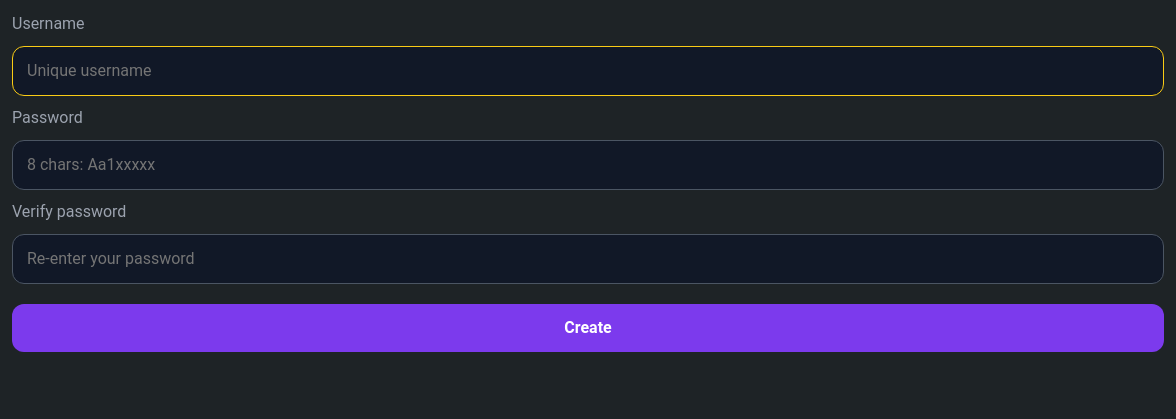
Test case: CreateProfileForm › surfaces store errors and clears them after a successful retry
Type "AcePilot" into the field labelled "Username" at (588, 71), box [12,46,1164,96]
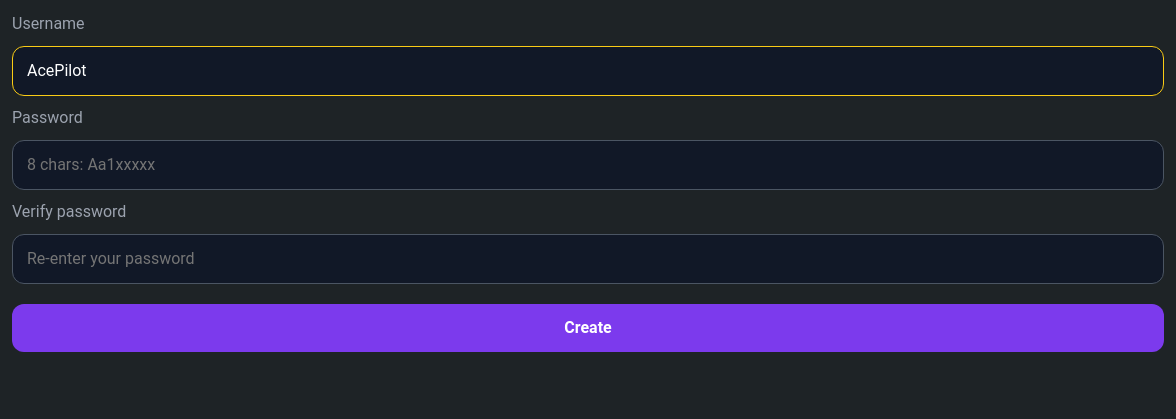
Type "Abc12345" into the password field labelled "Password" at (588, 165), box [12,140,1164,190]
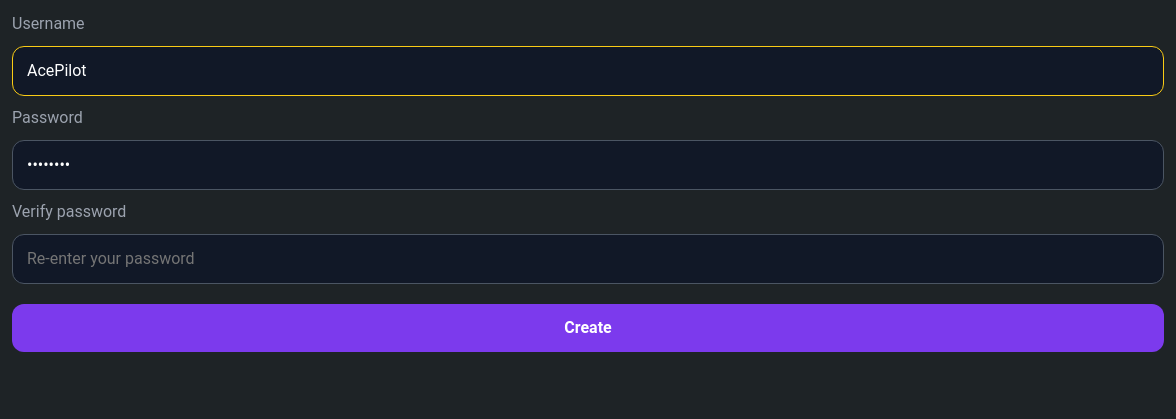
Type "Abc12345" into the password field labelled "Verify password" at (588, 259), box [12,234,1164,284]
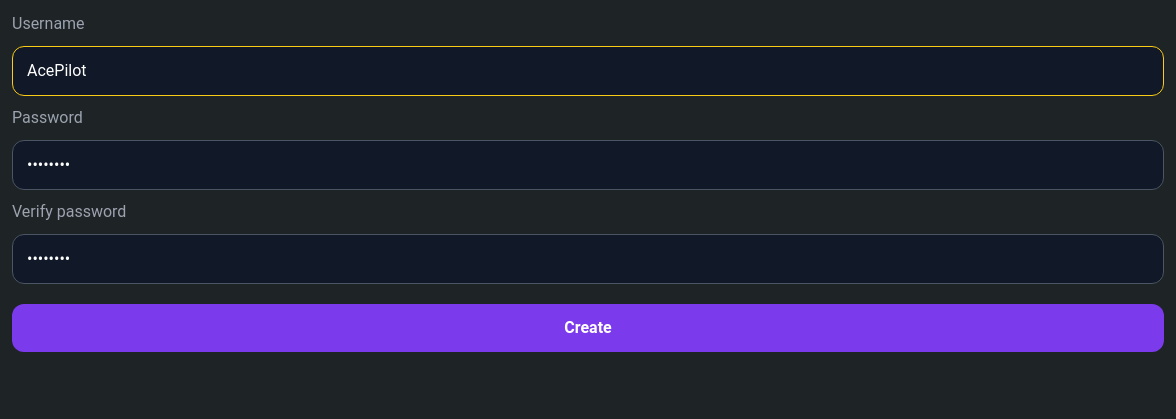
Click the button "Create" at (588, 328), box [12,304,1164,352]
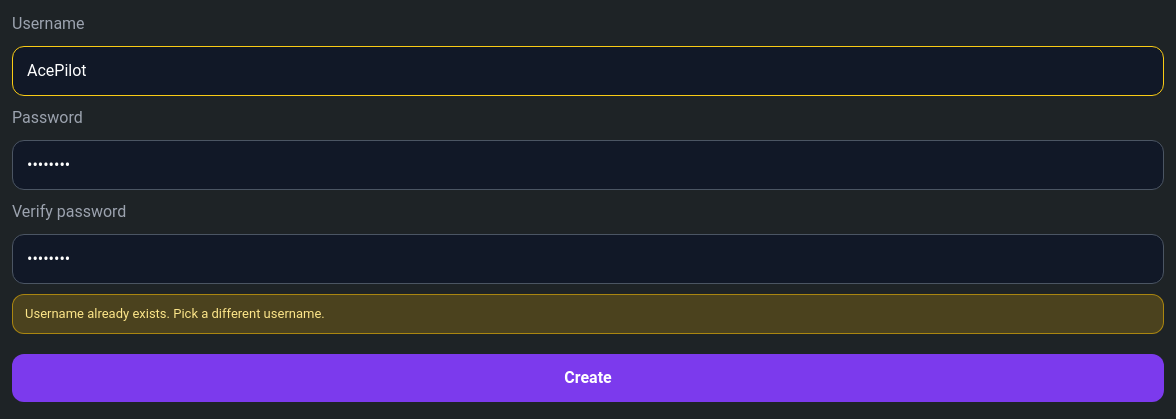
Check: the message shows "Username already exists", box [25,306,325,321]
Click the button "Create" at (588, 378), box [12,354,1164,402]
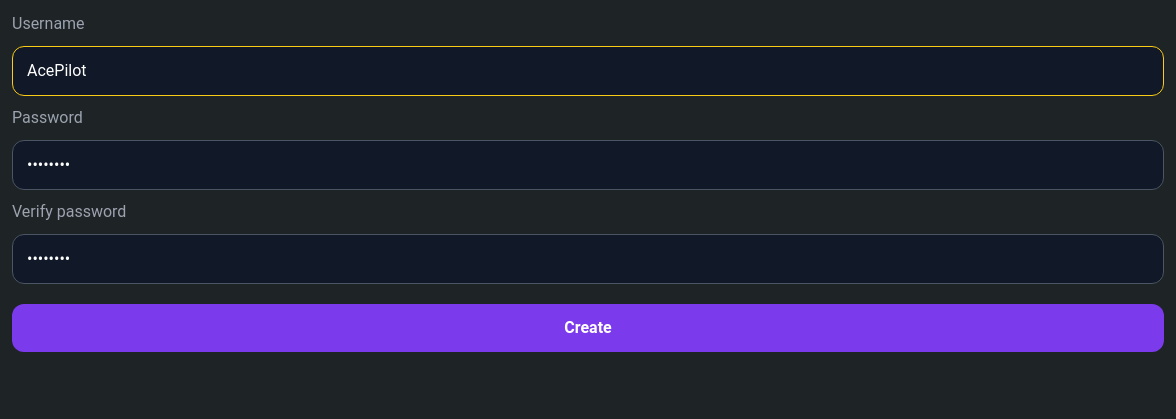
Check: the message "Username already exists. Pick a different username." is gone
